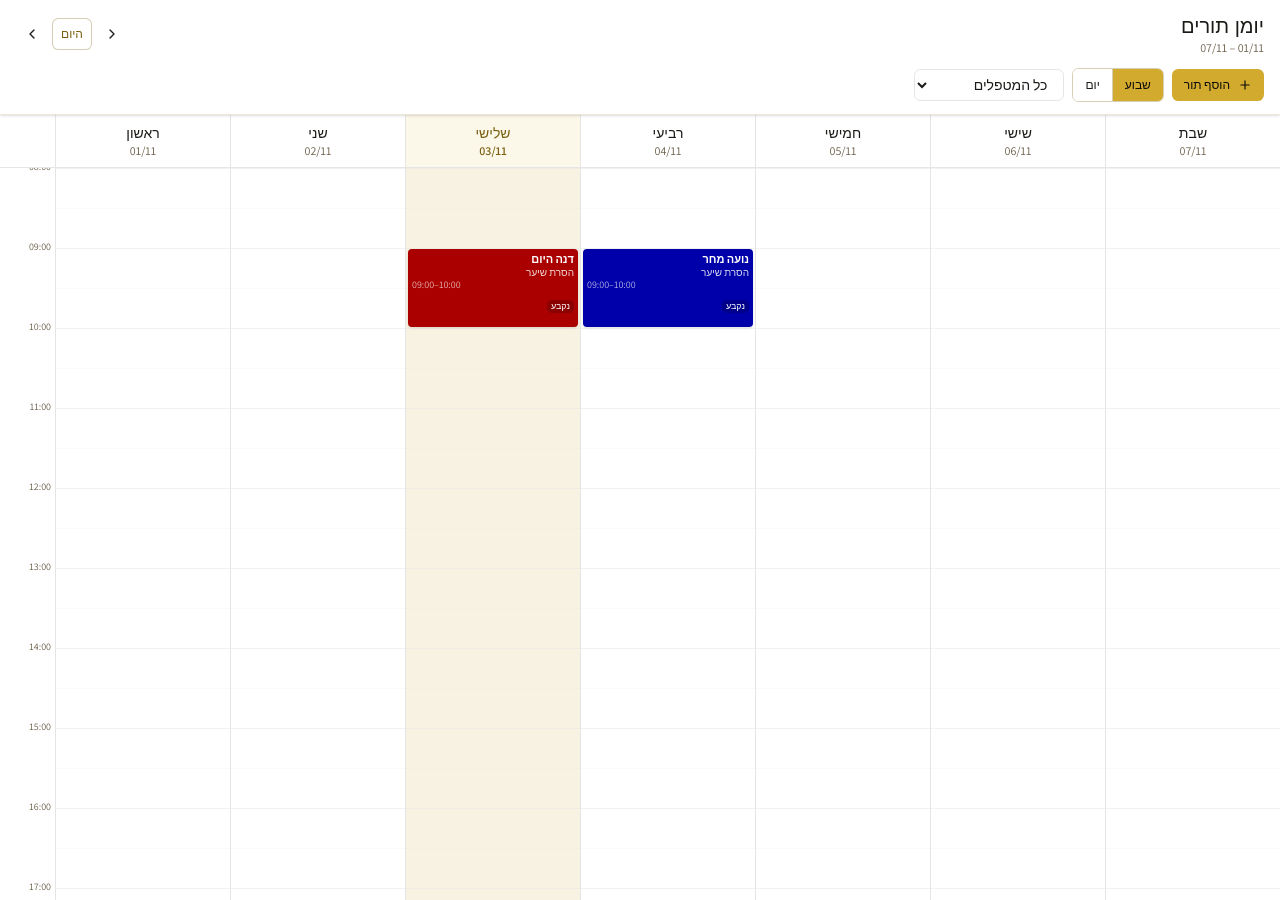
WeeklyCalendar — task 5.4: week/day view toggle › בתצוגת יום — מוצגים רק תורי 'היום' (03/11); תורי יום אחר (04/11) לא מוצגים
Click the button with aria-label "תצוגת יום".
click(1093, 85)  # box left=1073, top=69, right=1112, bottom=101
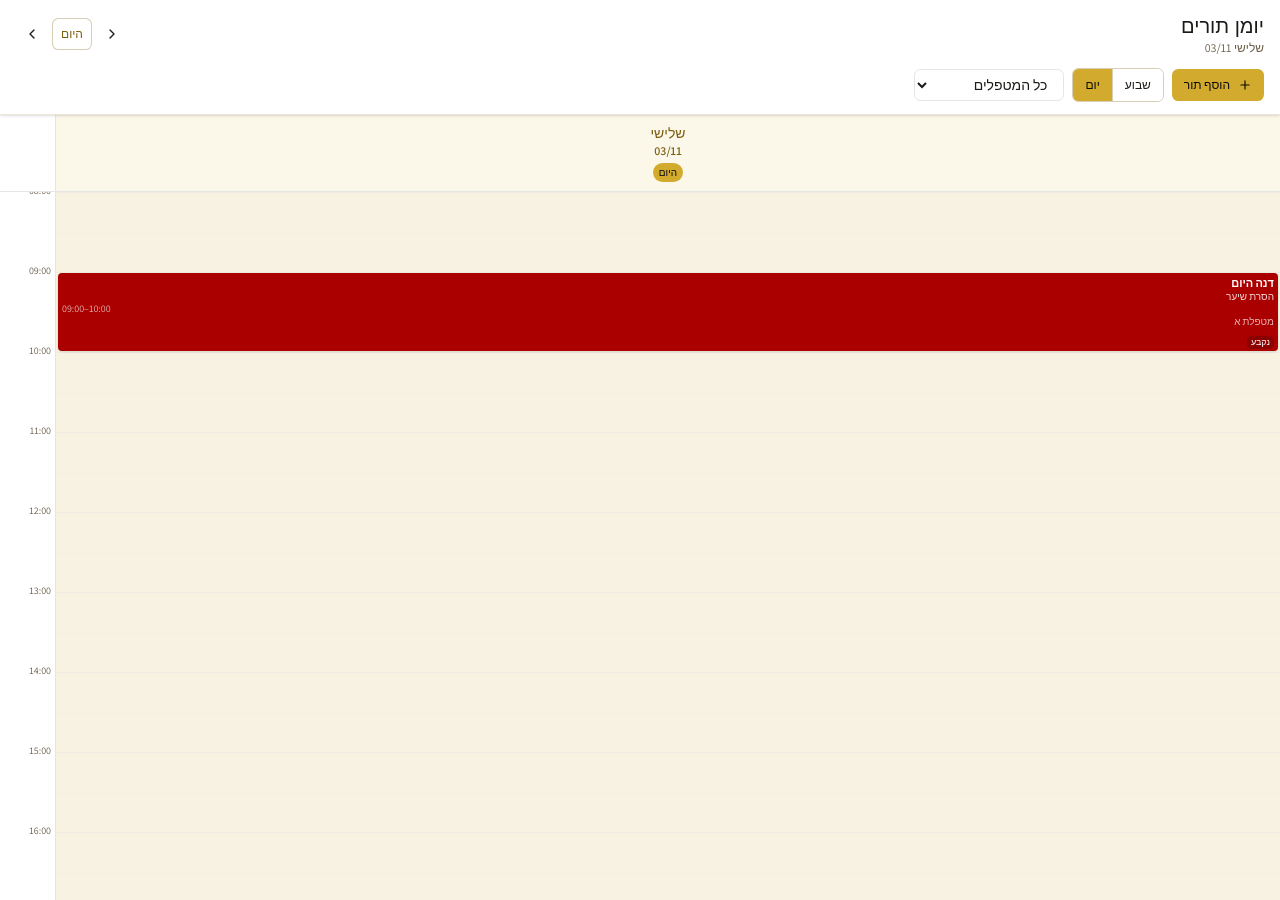
Now the text "נועה מחר" is gone
